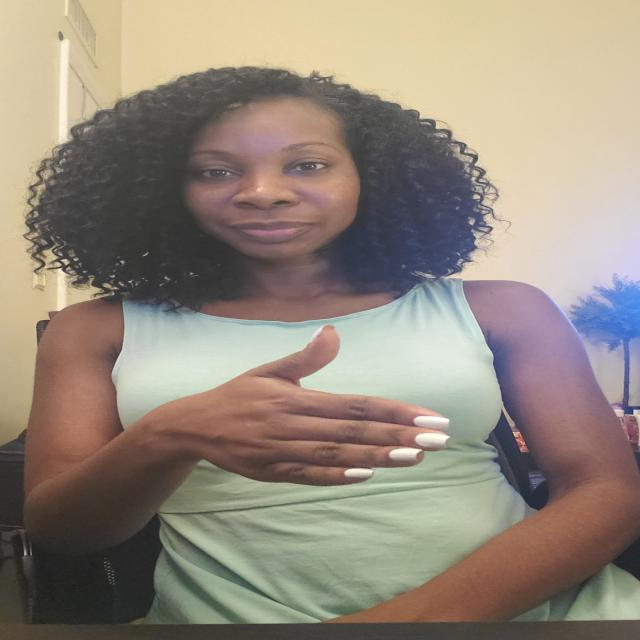Paper: (155, 327, 463, 496)
